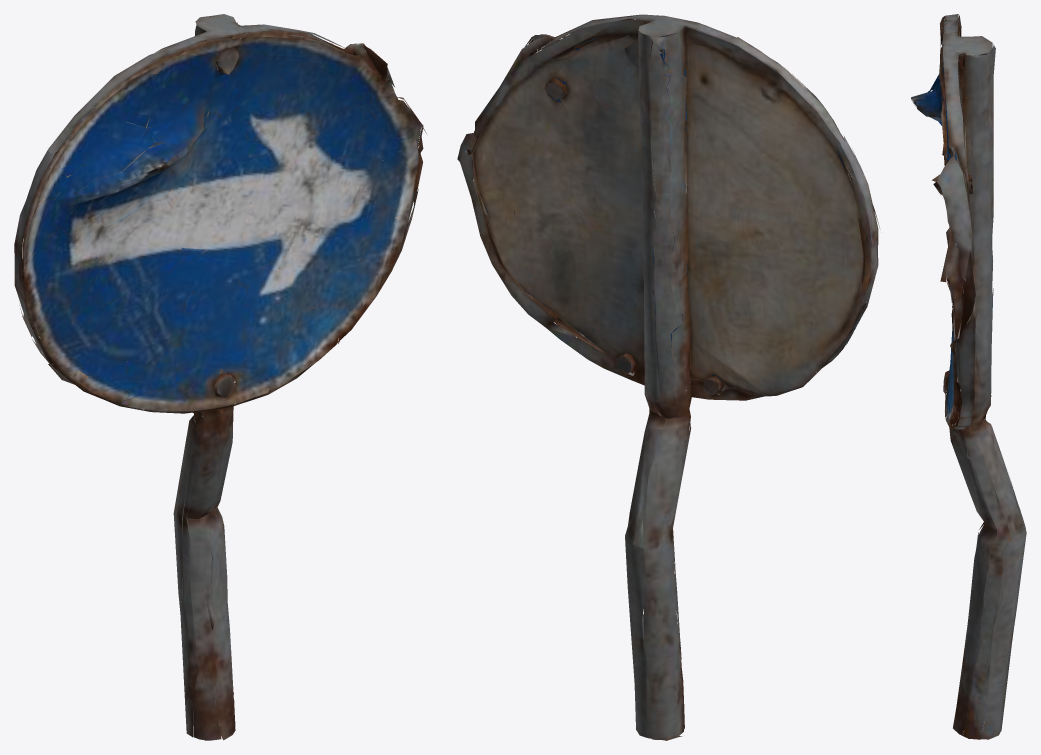
File: stadt_schild_kaputt.glb
The picture shows the model from 3 angles, left to right: view 1: azimuth 30°, elevation 25°; view 2: azimuth 150°, elevation 25°; view 3: azimuth 270°, elevation 25°; orthographic projection. The views are drawn at different scales.
Visible parts, largest first — view 1: Prop; view 2: Prop; view 3: Prop.
Boxes of the visible parts, bbox=[...] form: Prop: bbox=[14, 14, 426, 740]; Prop: bbox=[457, 14, 879, 740]; Prop: bbox=[911, 14, 1026, 739].
Size of the model in its own units: 0.6101 by 1 by 0.1535.
1 material, 1 textured.
